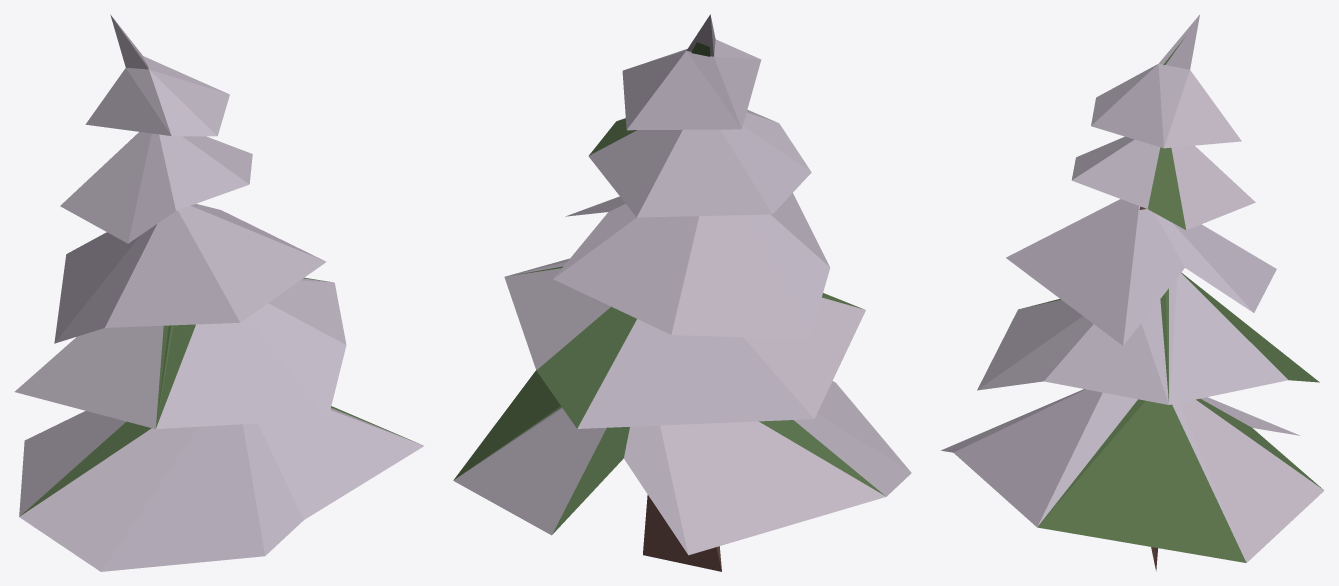
The model's file is PineTree_Snow_1.lod3.glb.
3 renders of one model, left to right at view 1: azimuth 30°, elevation 25°; view 2: azimuth 150°, elevation 25°; view 3: azimuth 270°, elevation 25°, orthographic. The views are drawn at different scales.
Visible parts, largest first — view 1: PineTree_Snow_1; view 2: PineTree_Snow_1; view 3: PineTree_Snow_1.
Boxes of the visible parts, x1=… form: PineTree_Snow_1: x1=14, y1=14, x2=423, y2=571; PineTree_Snow_1: x1=453, y1=14, x2=911, y2=571; PineTree_Snow_1: x1=941, y1=14, x2=1324, y2=571.
Bounding box in the file's own units: 1.86 × 2.7 × 1.82.
